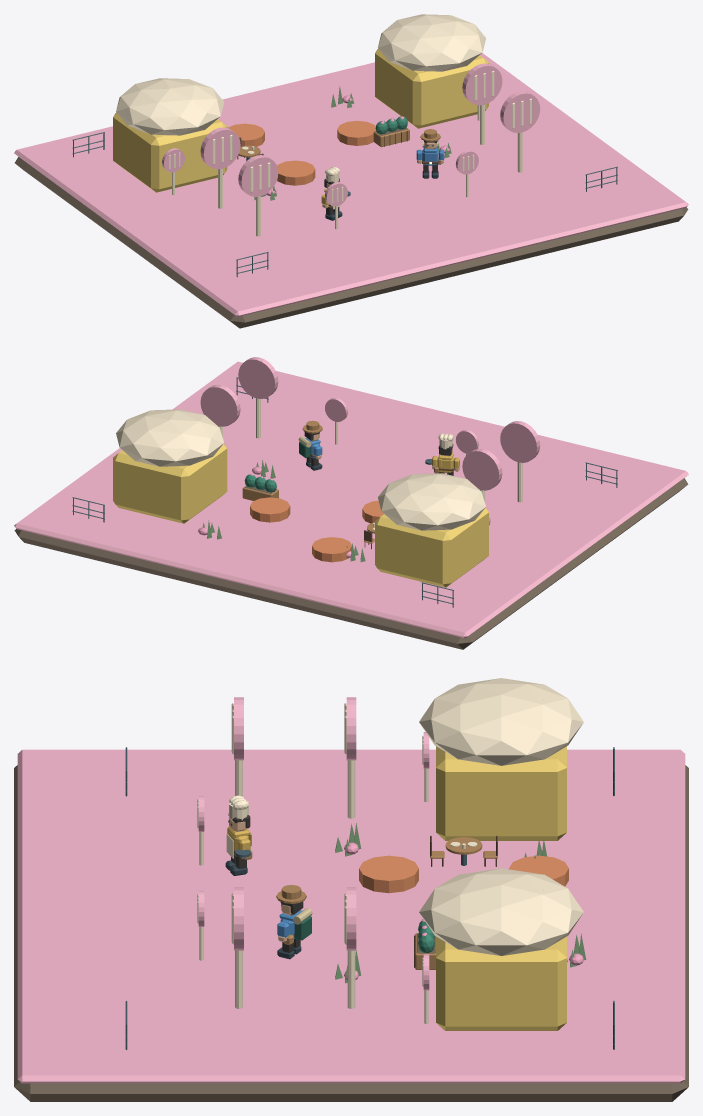
The model's file is world-candy.glb.
3 renders of one model, top to bottom at view 1: azimuth 30°, elevation 25°; view 2: azimuth 150°, elevation 25°; view 3: azimuth 270°, elevation 25°, orthographic. The views are drawn at different scales.
Parts seen in each view (by area): view 1: terrain-top, terrain-stratum, cake-house.001, icing-roof.001, icing-roof, cake-house, lollipop.001, lollipop.004, lollipop.002, lollipop.005, cookie-platform, cookie-platform.001 (+1 smaller); view 2: terrain-top, terrain-stratum, cake-house.001, cake-house, icing-roof, icing-roof.001, lollipop.004, lollipop.001, lollipop.002, lollipop.005, cookie-platform.001, cookie-platform.002; view 3: terrain-top, terrain-stratum, icing-roof, icing-roof.001, cake-house.001, cake-house, cookie-platform, cookie-platform.002, lollipop.005, lollipop.002, lollipop.001, lollipop.004.
Part boxes in pixels (left/top/right/bottom): terrain-top: left=14, top=53, right=688, bottom=316; terrain-stratum: left=15, top=157, right=688, bottom=328; cake-house.001: left=375, top=48, right=488, bottom=128; icing-roof.001: left=378, top=14, right=486, bottom=71; icing-roof: left=116, top=78, right=224, bottom=135; cake-house: left=113, top=112, right=227, bottom=192; lollipop.001: left=238, top=155, right=278, bottom=196; lollipop.004: left=500, top=91, right=540, bottom=132; lollipop.002: left=200, top=127, right=240, bottom=169; lollipop.005: left=462, top=63, right=502, bottom=105; cookie-platform: left=277, top=160, right=315, bottom=185; cookie-platform.001: left=337, top=120, right=376, bottom=145; terrain-top: left=14, top=361, right=688, bottom=638; terrain-stratum: left=14, top=478, right=688, bottom=649; cake-house.001: left=113, top=444, right=227, bottom=523; cake-house: left=375, top=507, right=488, bottom=587; icing-roof: left=378, top=473, right=486, bottom=530; icing-roof.001: left=116, top=409, right=224, bottom=466; lollipop.004: left=238, top=357, right=278, bottom=398; lollipop.001: left=500, top=421, right=540, bottom=462; lollipop.002: left=462, top=448, right=502, bottom=490; lollipop.005: left=200, top=384, right=240, bottom=426; cookie-platform.001: left=250, top=497, right=290, bottom=522; cookie-platform.002: left=312, top=537, right=351, bottom=562; terrain-top: left=17, top=749, right=685, bottom=1083; terrain-stratum: left=14, top=765, right=688, bottom=1101; icing-roof: left=419, top=678, right=583, bottom=765; icing-roof.001: left=419, top=868, right=583, bottom=955; cake-house.001: left=436, top=936, right=566, bottom=1030; cake-house: left=436, top=746, right=566, bottom=840; cookie-platform: left=359, top=855, right=418, bottom=893; cookie-platform.002: left=509, top=855, right=568, bottom=886; lollipop.005: left=346, top=887, right=356, bottom=950; lollipop.002: left=346, top=697, right=356, bottom=760; lollipop.001: left=234, top=697, right=243, bottom=760; lollipop.004: left=234, top=887, right=243, bottom=950.
Bounding box in the file's own units: 21 × 4.49 × 18.
